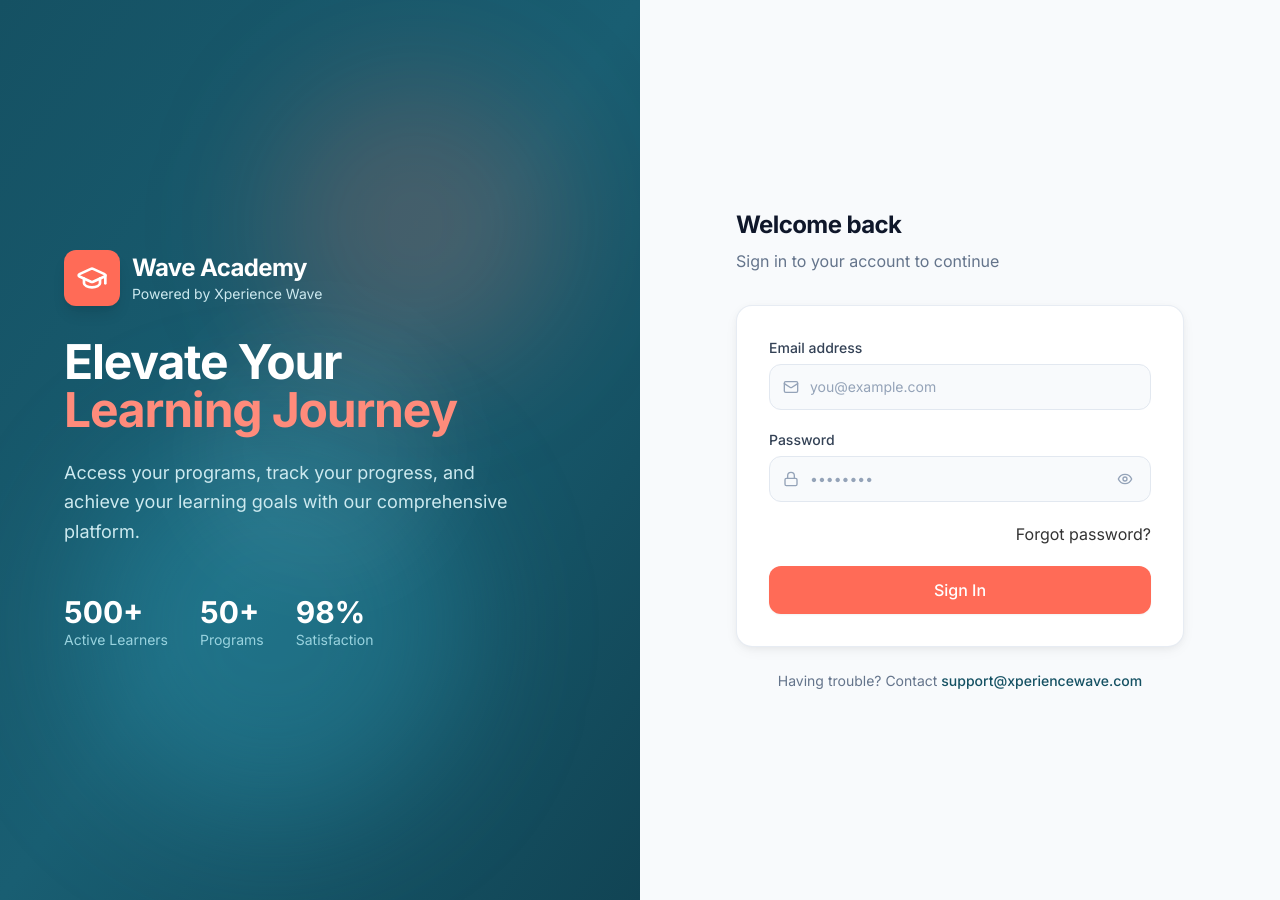
it: LoginPage › shows error message on invalid credentials
Type "admin@test.com" into the field with placeholder "you@example.com". click: (960,387)
box: [769,364,1151,410]
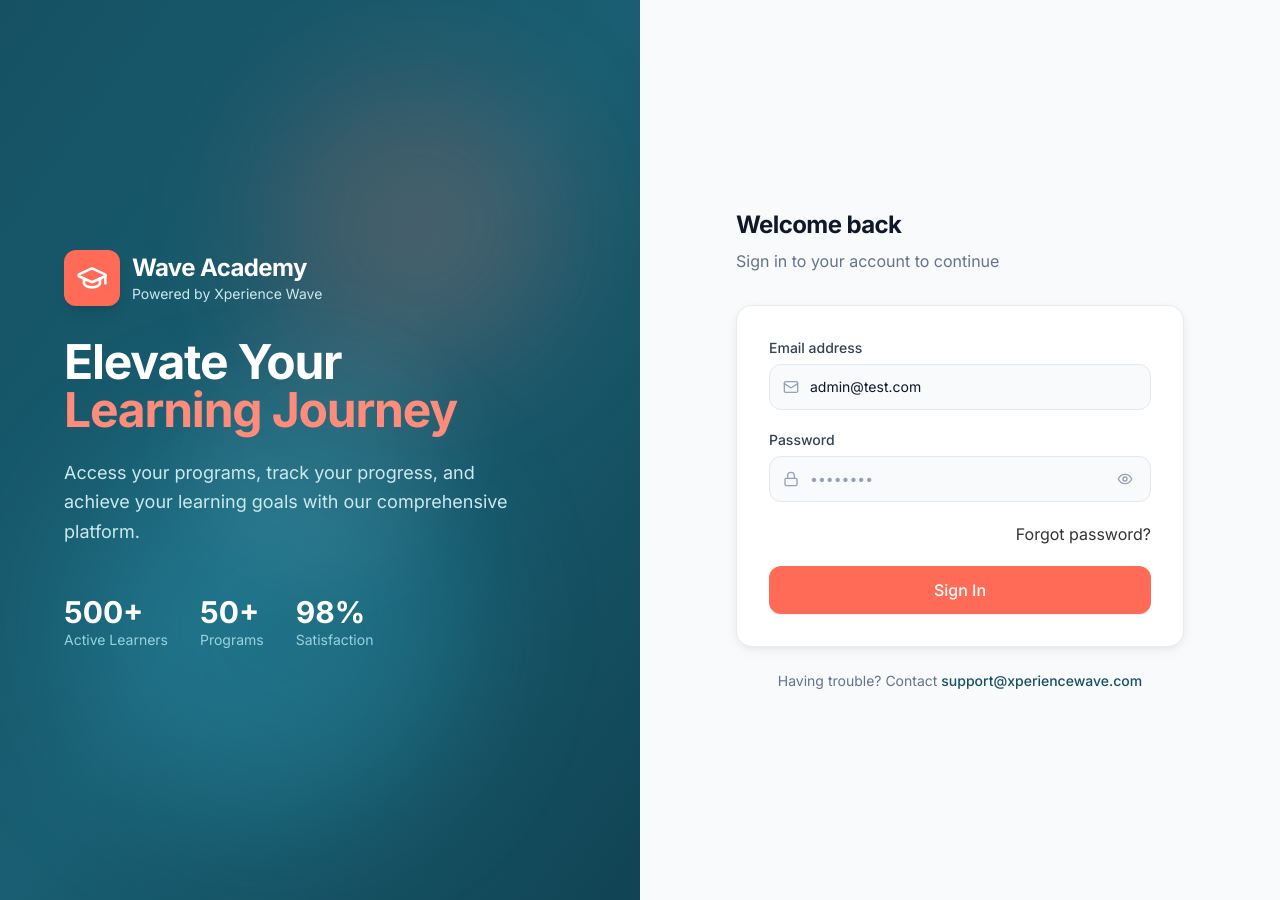
Type "wrongpassword" into the password field with placeholder "••••••••". click: (960,479)
box: [769,456,1151,502]
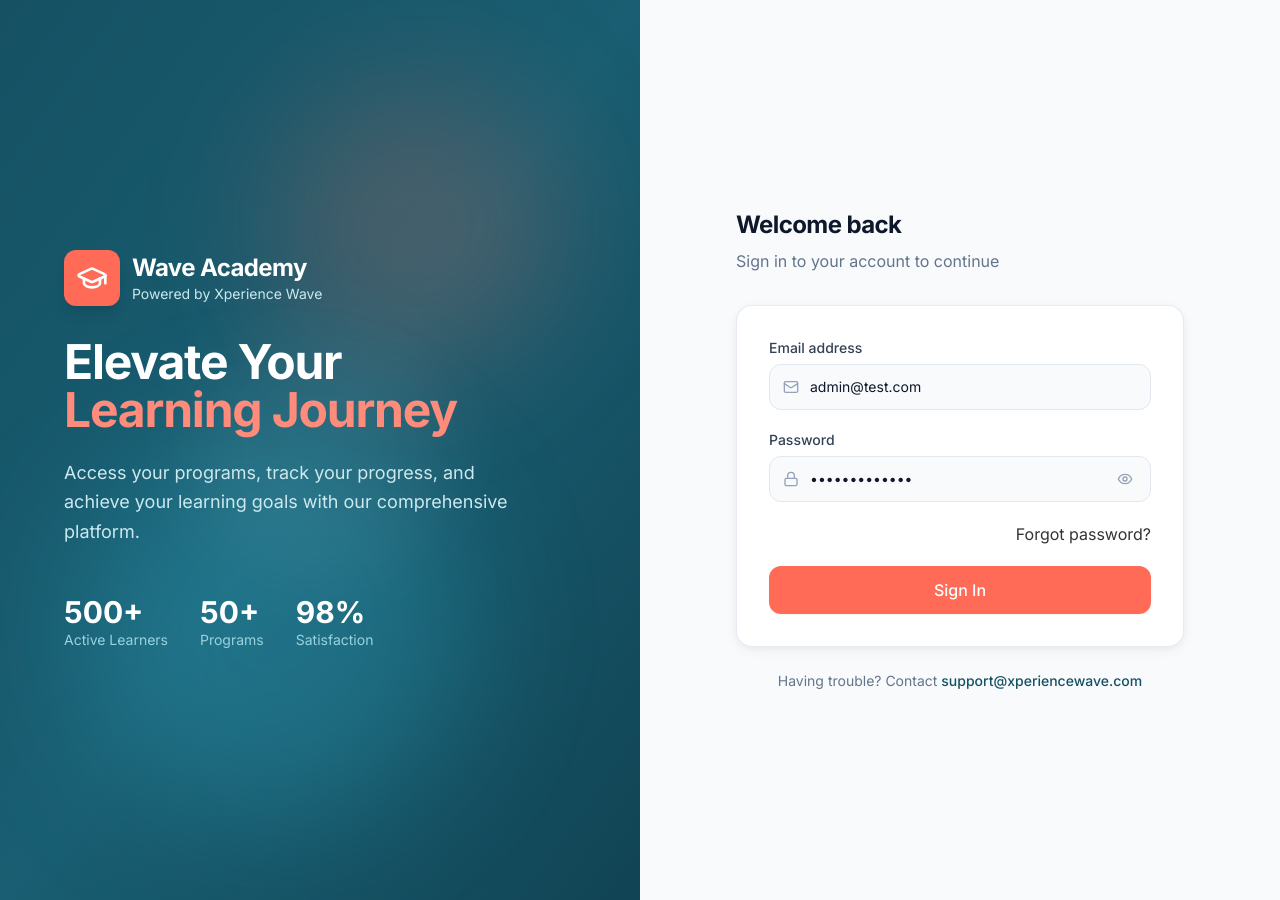
Click the button "Sign In". click: (960,590)
box: [769,566,1151,614]
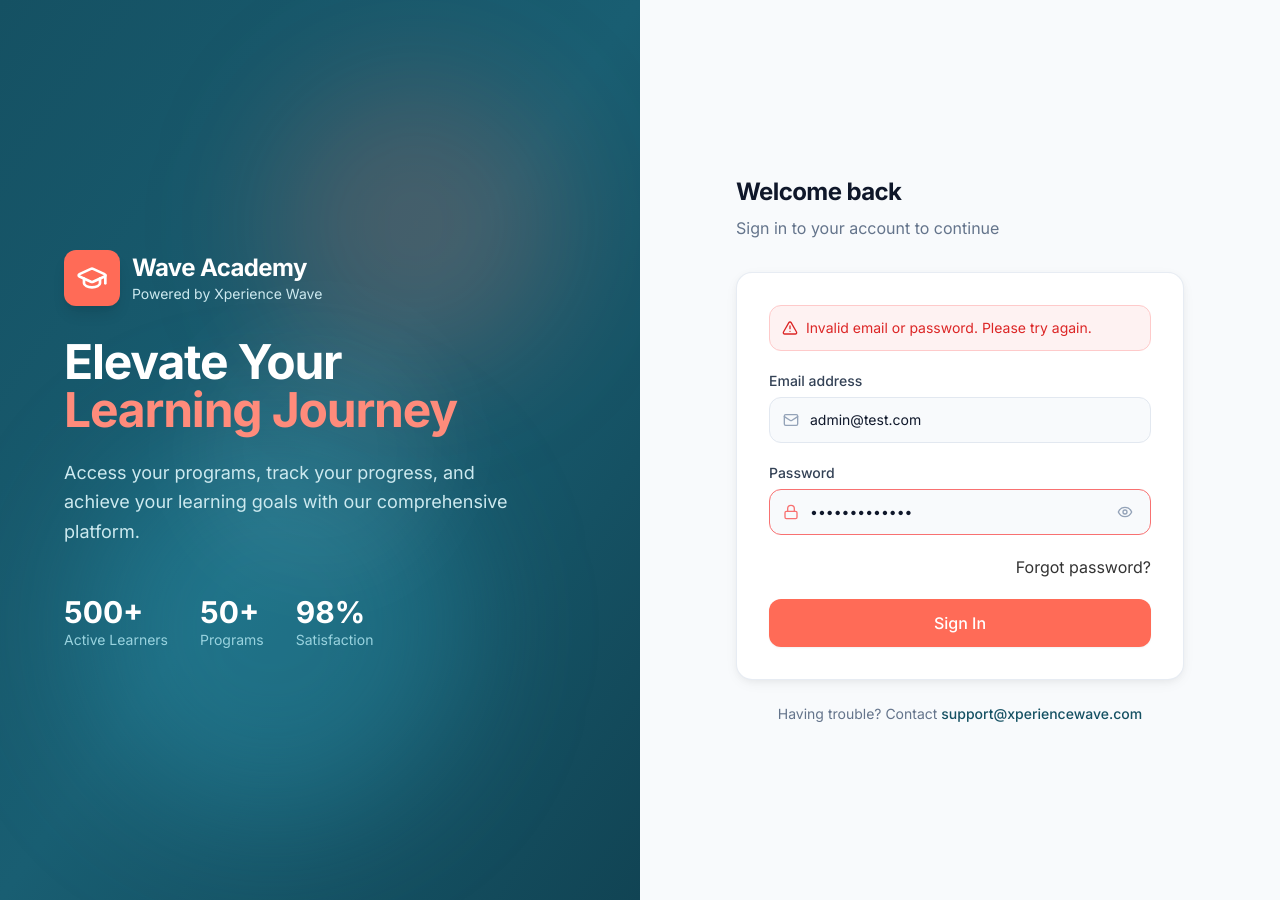
expect the text "Invalid email or password. Please try again." is shown: met, box [782,318,1138,338]
